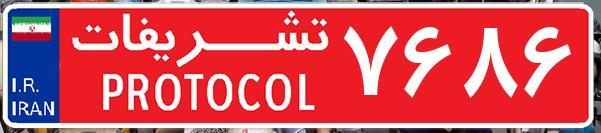6: (400, 20, 460, 115), (520, 20, 580, 115)
7: (340, 20, 400, 115)
8: (460, 20, 520, 115)
تشریفات: (60, 8, 340, 125)
